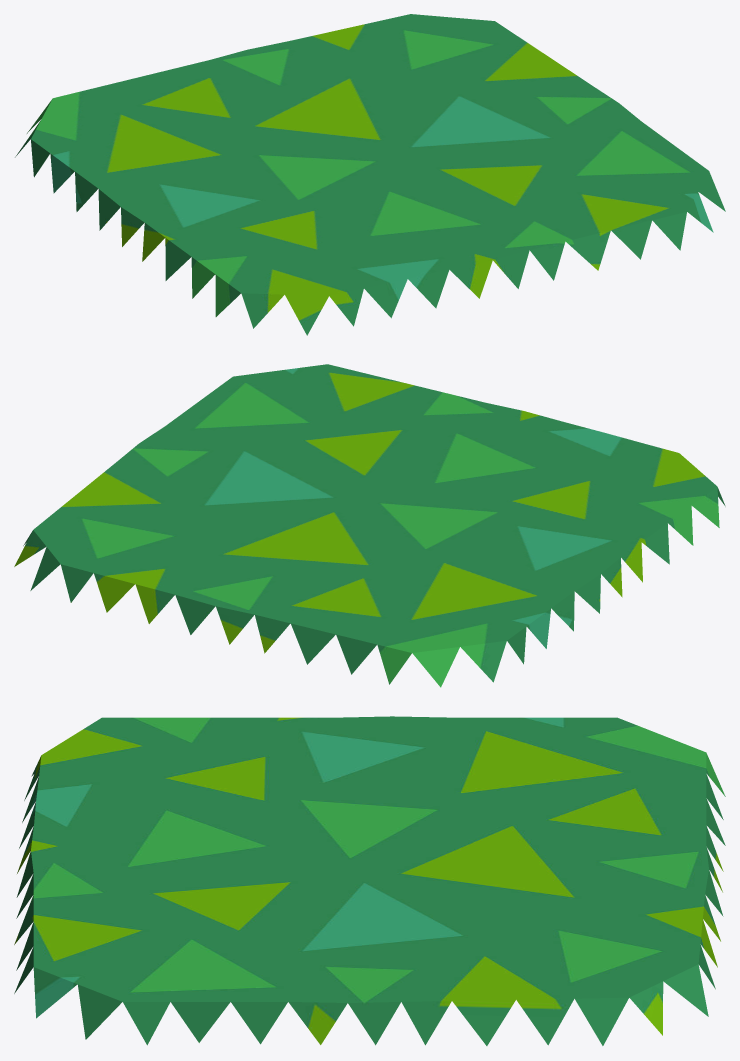
Rendered from Grass Island.fbx.
3 renders of one model, top to bottom at view 1: azimuth 30°, elevation 25°; view 2: azimuth 150°, elevation 25°; view 3: azimuth 270°, elevation 25°, orthographic. The views are drawn at different scales.
Parts seen in each view (by area): view 1: Grass.Island; view 2: Grass.Island; view 3: Grass.Island.
Part boxes in pixels (bbox=[...]): Grass.Island: bbox=[15, 14, 725, 335]; Grass.Island: bbox=[14, 364, 725, 687]; Grass.Island: bbox=[14, 716, 725, 1045].
Size of the model in its own units: 1.8 by 0.104 by 1.8.
